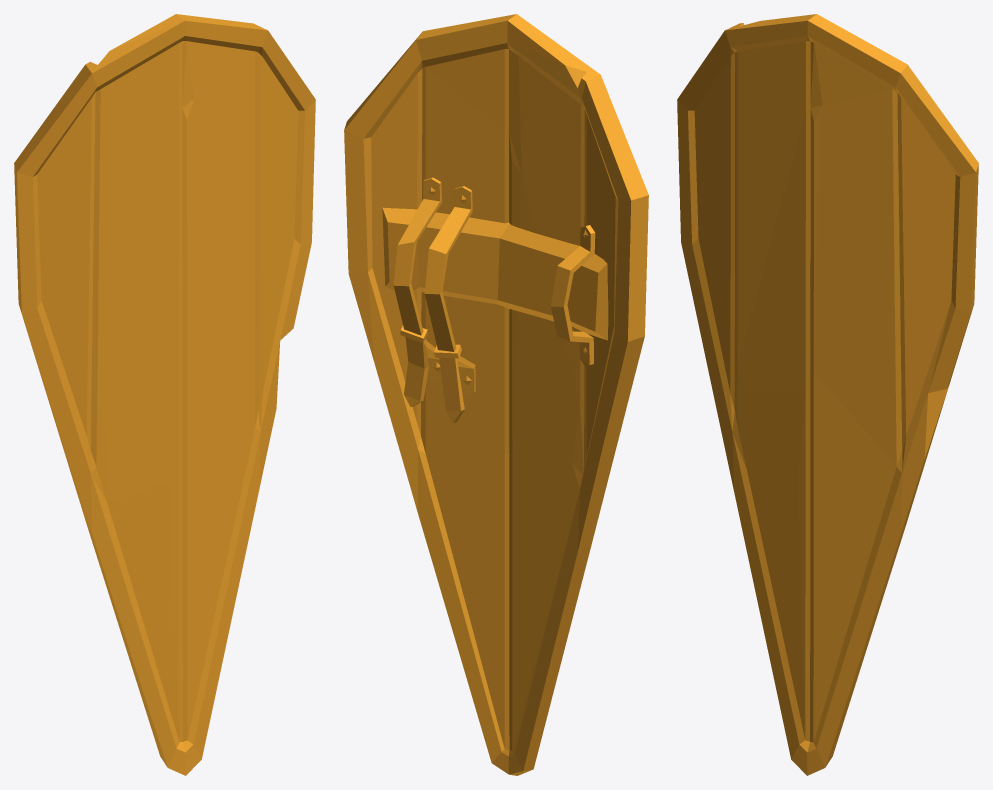
Rendered from SM_Shield_Kite_A.fbx.
3 views of the same model, side by side, from view 1: azimuth 30°, elevation 25°; view 2: azimuth 150°, elevation 25°; view 3: azimuth 330°, elevation 25° (orthographic).
Parts seen in each view (by area): view 1: shield-kite-a; view 2: shield-kite-a; view 3: shield-kite-a.
Part boxes in pixels (left/top/right/bottom): shield-kite-a: left=14, top=14, right=315, bottom=775; shield-kite-a: left=344, top=14, right=648, bottom=775; shield-kite-a: left=677, top=14, right=978, bottom=775.
Bounding box in the file's own units: 0.6127 × 1.48 × 0.1703.
